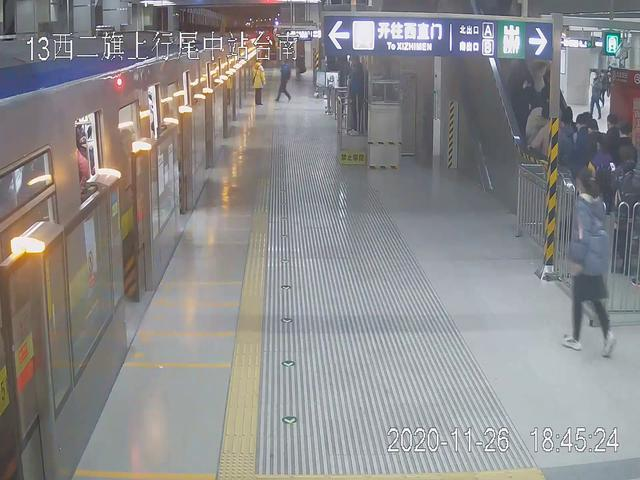person: (563, 166, 618, 359), (275, 57, 295, 105), (251, 60, 268, 107)
